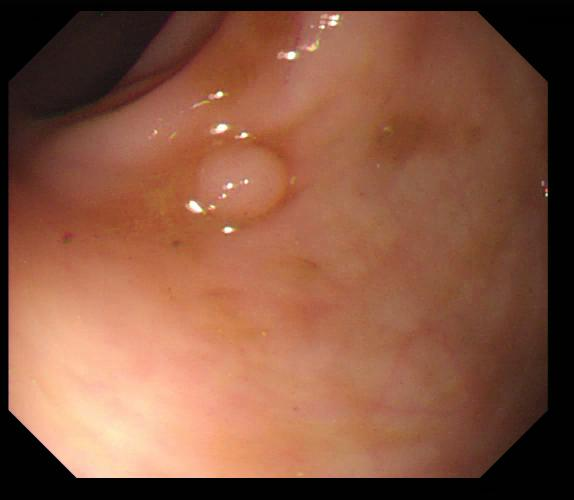polyp: (188, 136, 295, 227)
